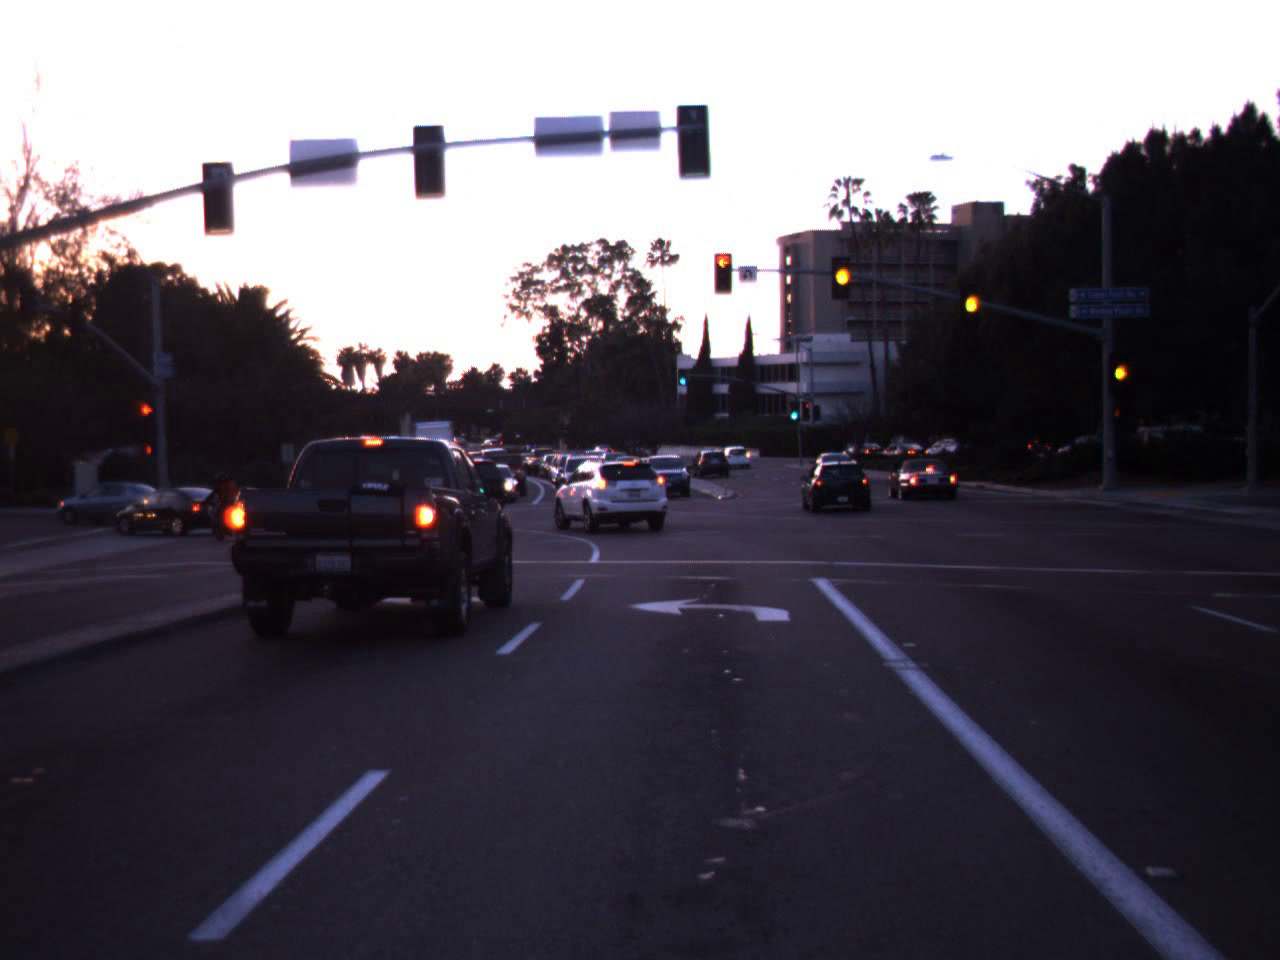go: (675, 361, 690, 386), (788, 398, 800, 418)
stop: (705, 249, 741, 294), (133, 402, 160, 438)
warning: (824, 239, 860, 306), (958, 267, 988, 334), (1107, 346, 1134, 395)
